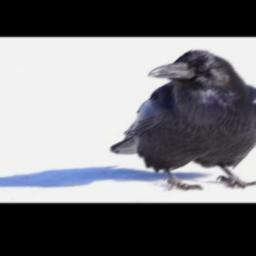Crow: (106, 48, 256, 191)
